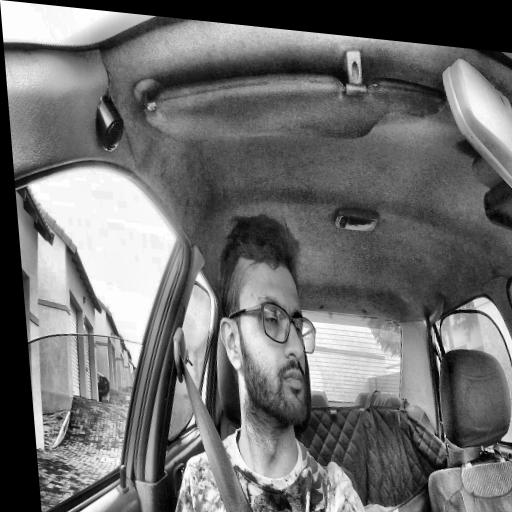drowsy: (210, 208, 325, 436)
